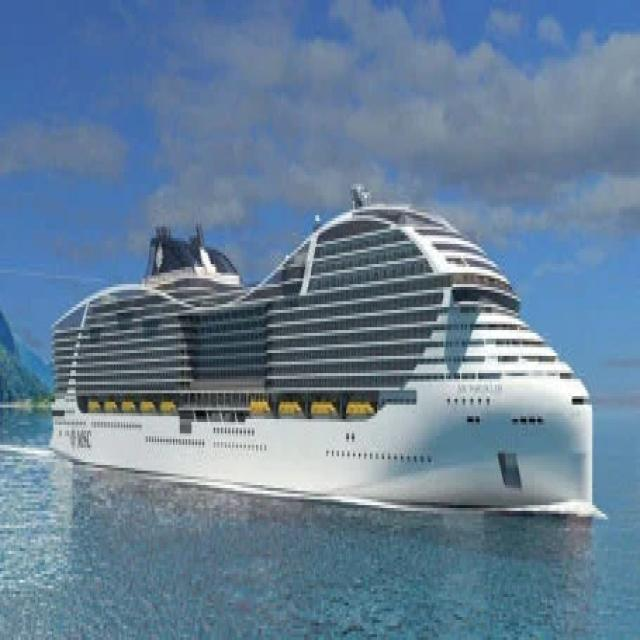PassengerShip: (25, 189, 626, 556)
